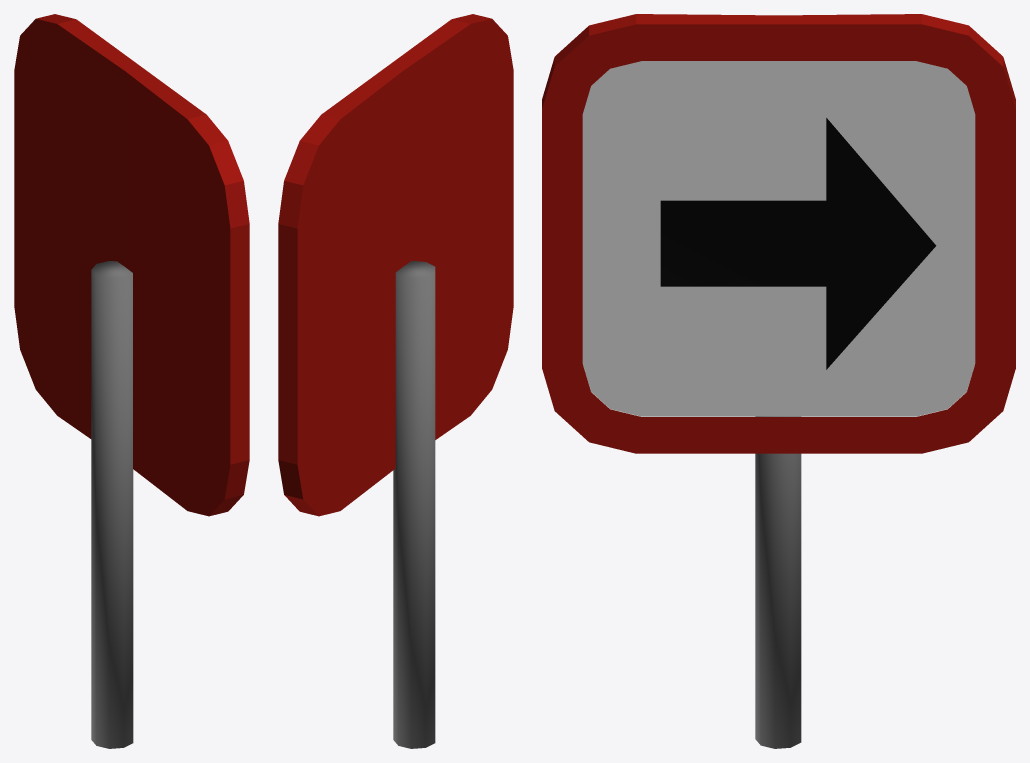
The model's file is OneWay.glb.
3 views of the same model, side by side, from view 1: azimuth 30°, elevation 25°; view 2: azimuth 150°, elevation 25°; view 3: azimuth 270°, elevation 25° (orthographic). The views are drawn at different scales.
Parts seen in each view (by area): view 1: Cube, Plane.002; view 2: Cube, Plane.002; view 3: Cube.001, Cube, Plane.003, Plane.002.
Part boxes in pixels (left/top/right/bottom): Cube: left=14, top=14, right=249, bottom=516; Plane.002: left=91, top=261, right=133, bottom=748; Cube: left=278, top=14, right=513, bottom=516; Plane.002: left=393, top=261, right=435, bottom=748; Cube.001: left=582, top=61, right=975, bottom=416; Cube: left=542, top=14, right=1015, bottom=453; Plane.003: left=660, top=118, right=936, bottom=369; Plane.002: left=755, top=416, right=801, bottom=748.
Size of the model in its own units: 0.2985 by 3.4 by 2.
